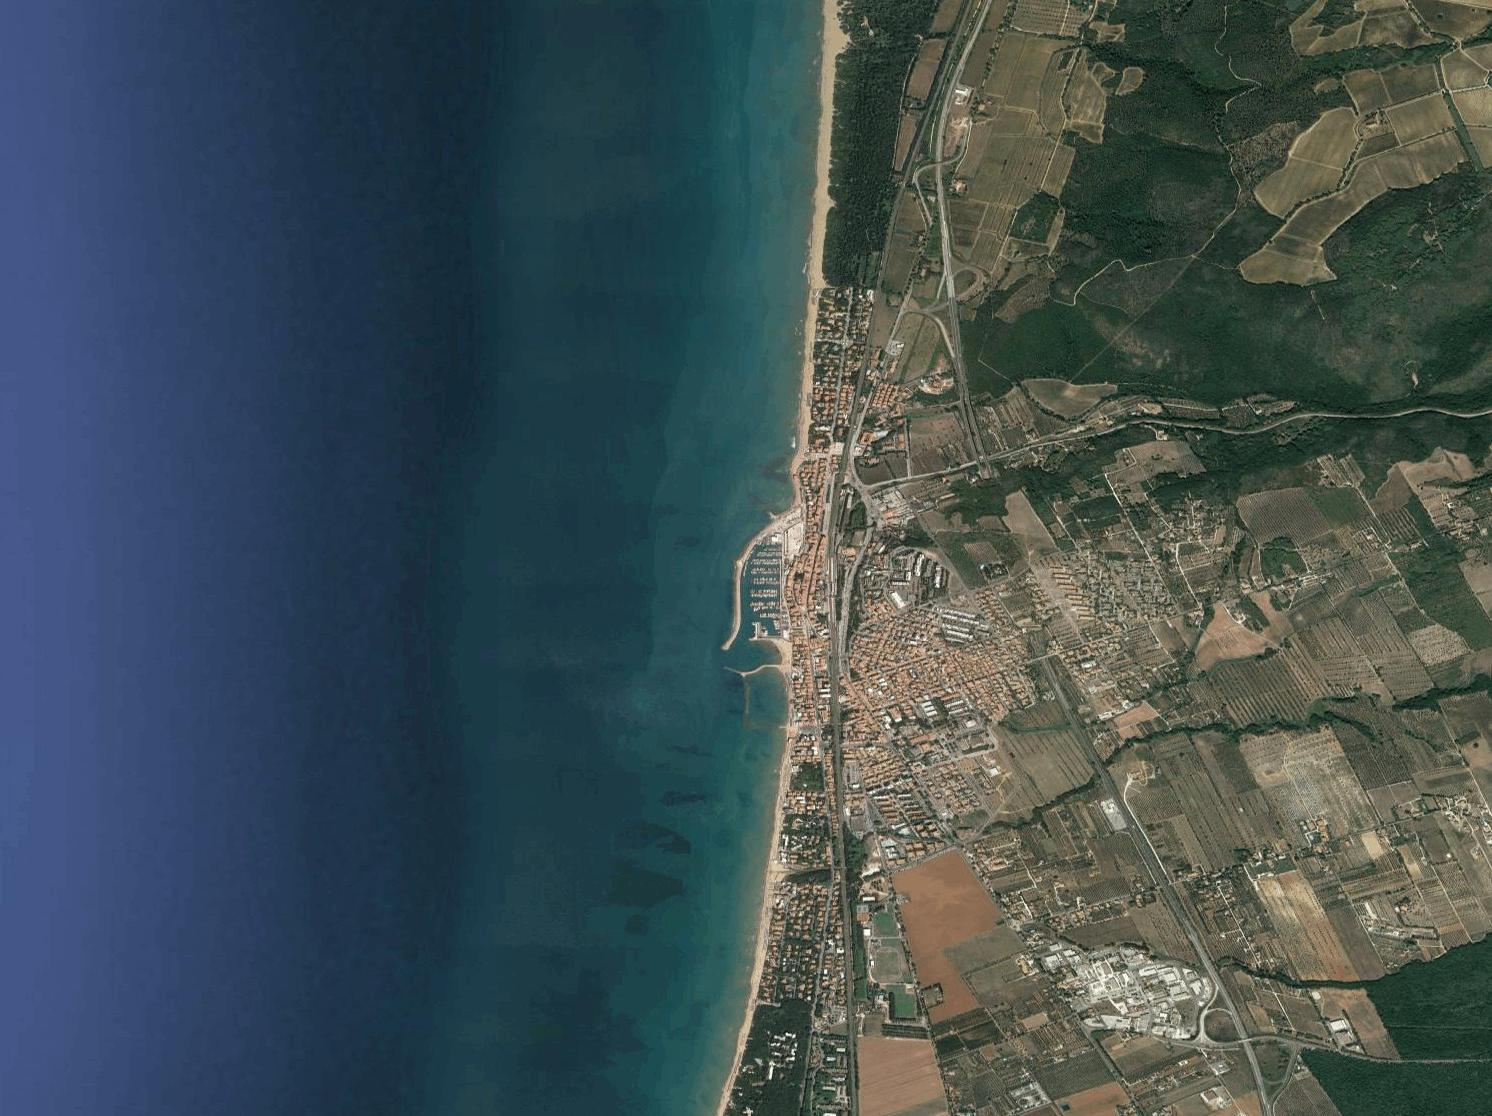harbor: (718, 506, 805, 683)
train_station: (823, 549, 844, 622)
